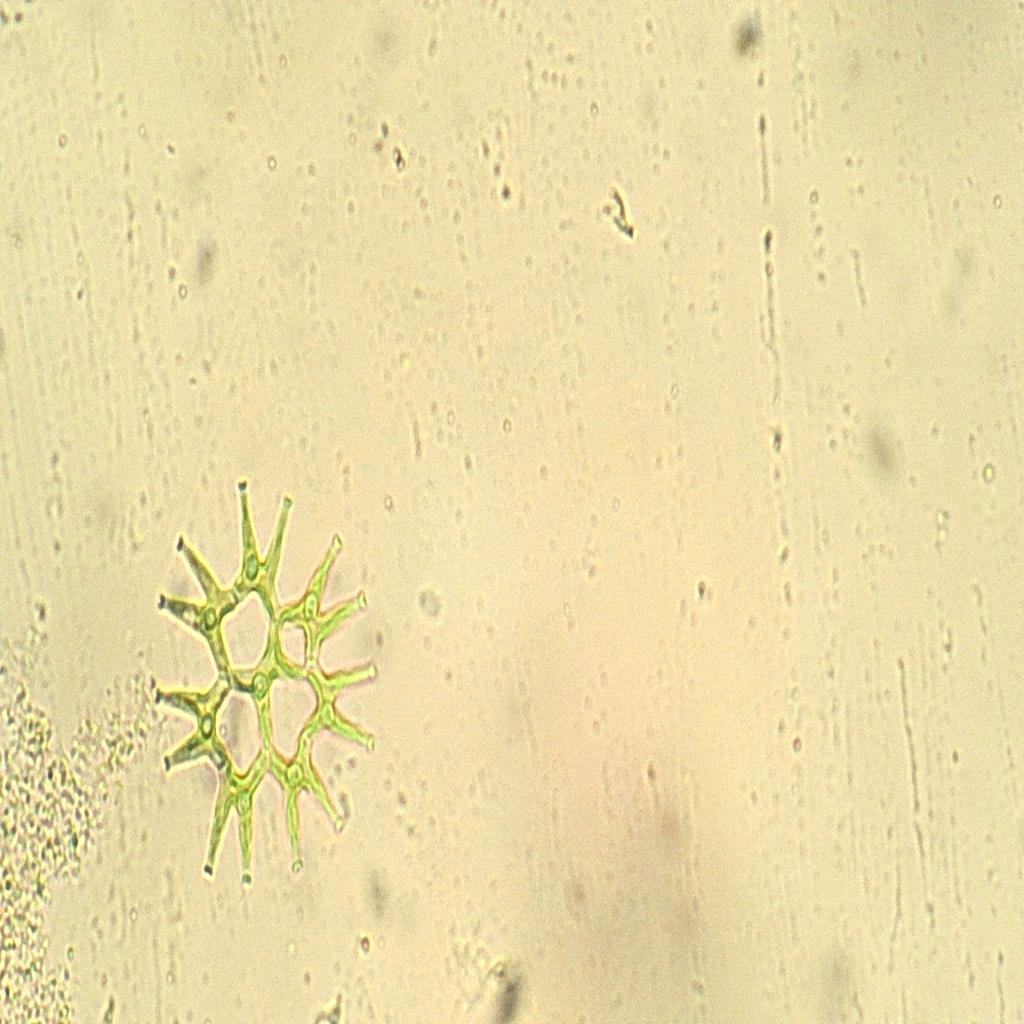Pediastrum_75T: (120, 446, 390, 904)
